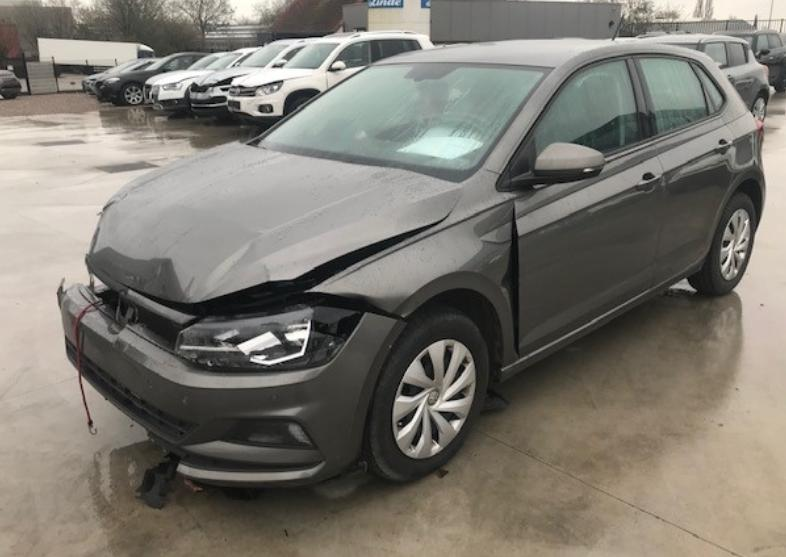Back-door: (631, 53, 737, 286)
Back-wheel: (687, 191, 756, 295)
Back-window: (639, 59, 708, 135), (688, 57, 729, 114)
Fender: (303, 169, 520, 368)
Front-bumper: (57, 277, 407, 488)
Front-door: (509, 55, 666, 358)
Front-wheel: (362, 302, 490, 481)
Front-window: (533, 61, 640, 159)
Grille: (80, 254, 196, 351)
Headlight: (174, 307, 314, 371)
Hood: (89, 140, 471, 303)
Mirror: (499, 142, 605, 190)
Quarter-panel: (701, 96, 766, 257)
Rocker-panel: (499, 249, 710, 384)
Roof: (367, 39, 713, 70)
Tail-light: (755, 119, 764, 148)
Windshield: (247, 62, 555, 183)
